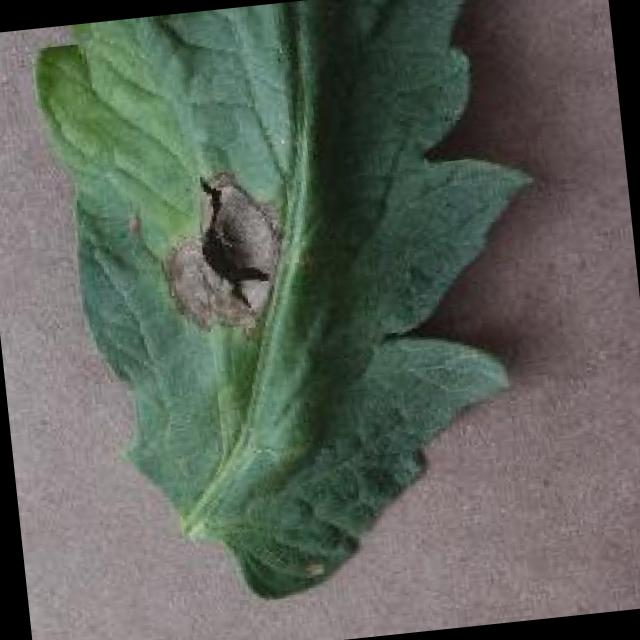Tomato_Early_Blight: (86, 124, 322, 393)
